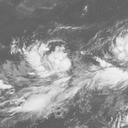cyclone: (21, 41, 80, 88), (113, 28, 127, 63)
